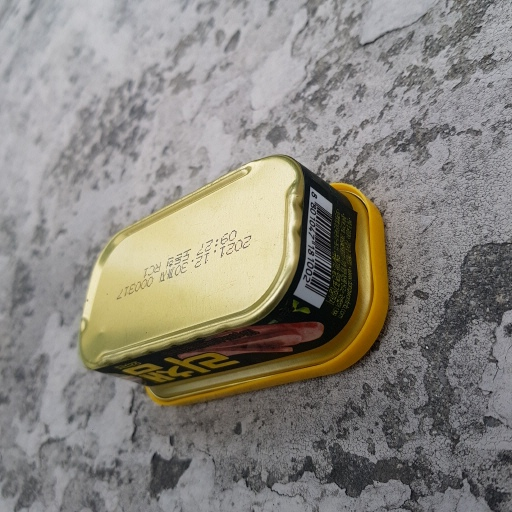Metal_2: (82, 154, 393, 407)
